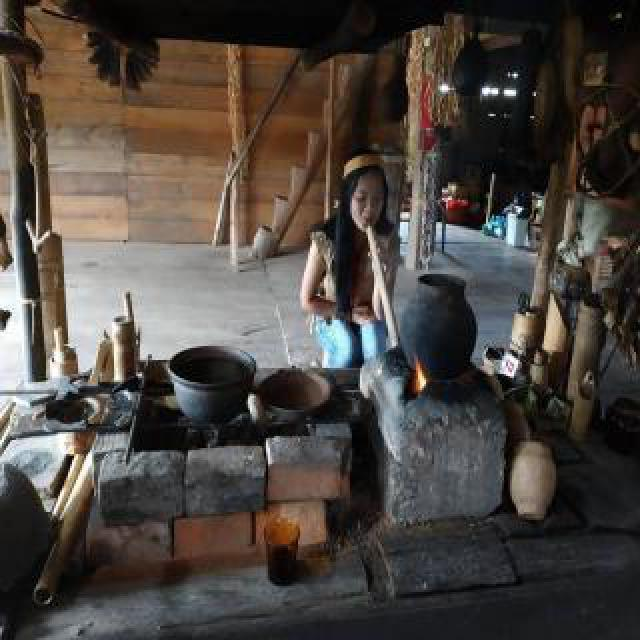Fire: (408, 348, 432, 394)
